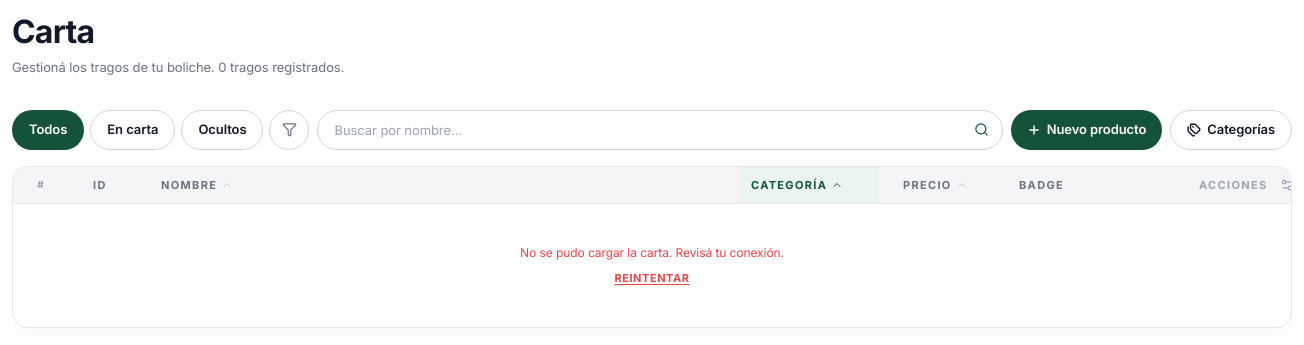
Test: CartaSection › muestra un error distinguible de 'carta vacía' si falla la carga inicial, con reintento
Expected: the text "No se pudo cargar la carta. Revisá tu conexión." is shown, [520,244,784,262]
Step 1. Click the button "Reintentar" → (652, 278), box [614,270,690,286]
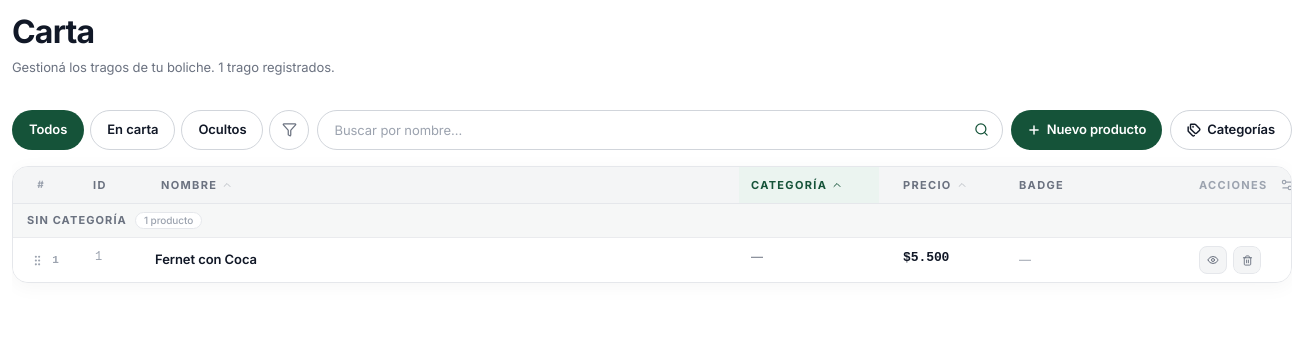
Expected: the text "Fernet con Coca" is shown, [155,251,257,267]
